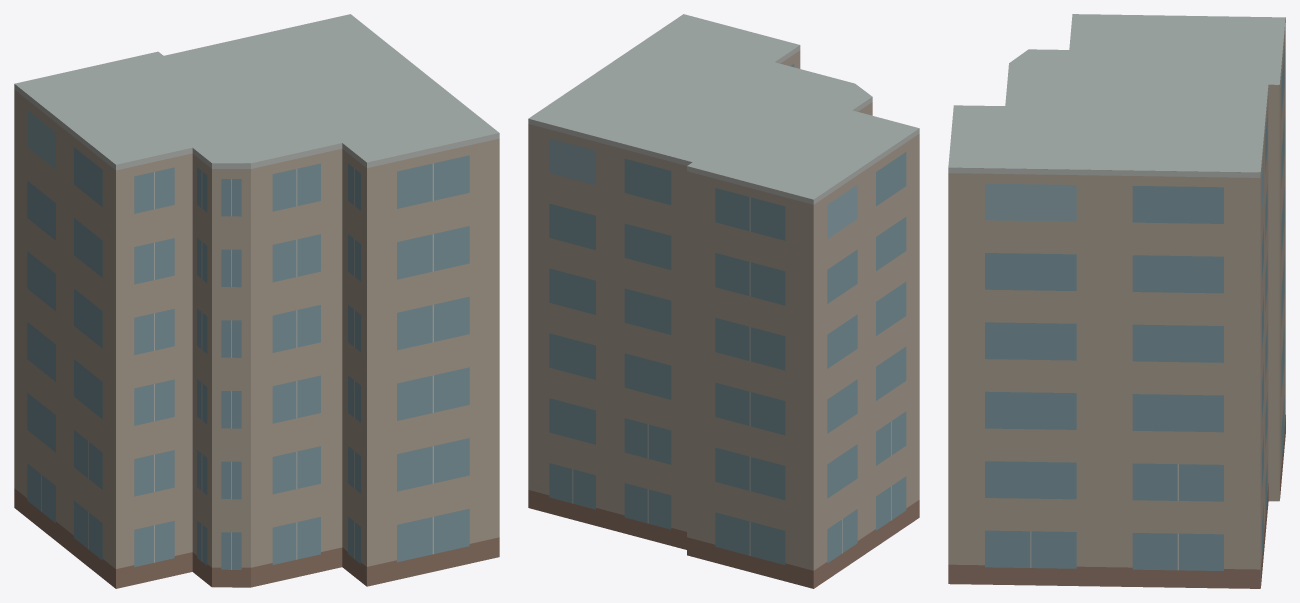
File: survey-upis-32663464.glb
The picture shows the model from 3 angles, left to right: view 1: azimuth 30°, elevation 25°; view 2: azimuth 150°, elevation 25°; view 3: azimuth 270°, elevation 25°; orthographic projection. The views are drawn at different scales.
Parts seen in each view (by area): view 1: survey-upis-32663464.tmp; view 2: survey-upis-32663464.tmp; view 3: survey-upis-32663464.tmp.
Boxes of the visible parts, x1,y1,x2,y2 form: survey-upis-32663464.tmp: (14,14,499,588); survey-upis-32663464.tmp: (528,14,919,588); survey-upis-32663464.tmp: (948,14,1285,588).
Size of the model in its own units: 14.94 by 18.3 by 13.45.
